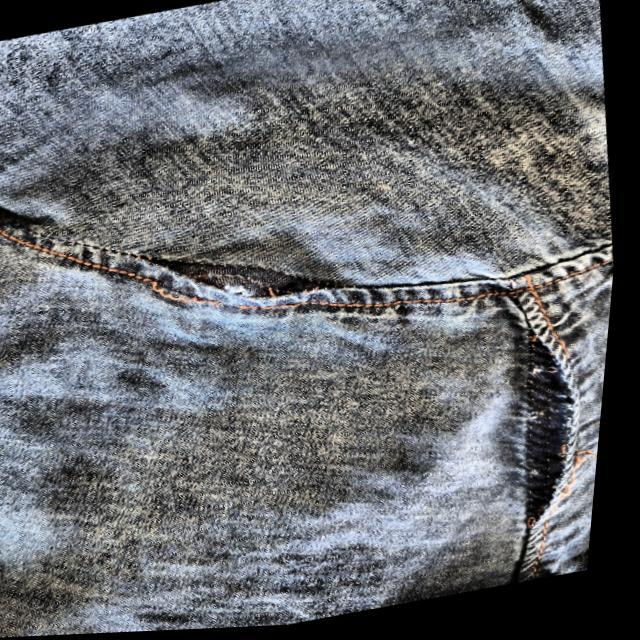hole: (496, 298, 586, 535)
seam: (2, 214, 614, 316), (514, 535, 546, 590)
